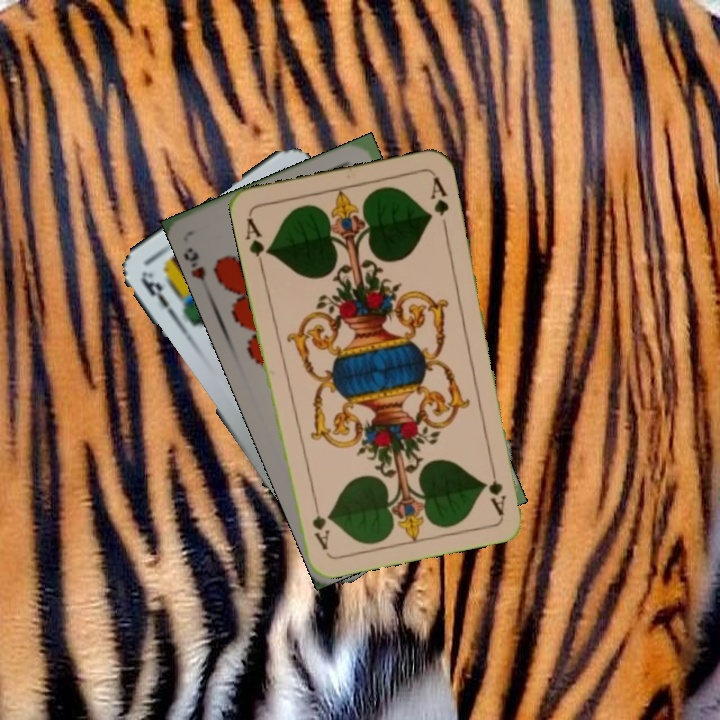EK: (136, 267, 179, 321)
GA: (242, 214, 274, 270), (485, 457, 510, 517)
H9: (181, 243, 209, 284)
